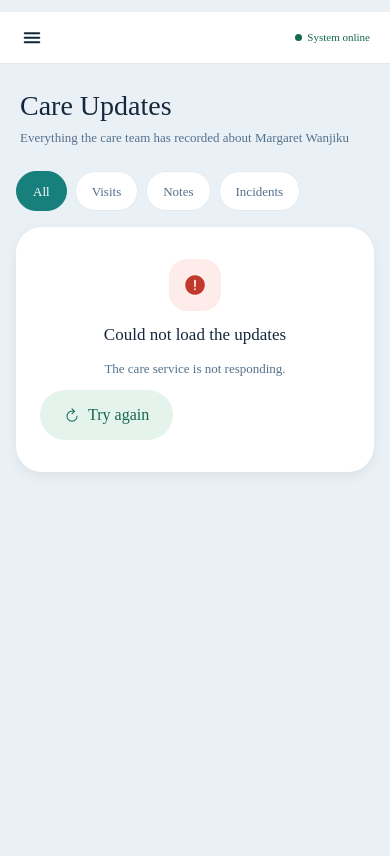
Scenario: the first load › takes the screen with an error only when nothing has loaded
Expected: the heading "Could not load the updates" is shown, [104, 323, 286, 347]
Click the button labelled "Try again": (107, 415) [40, 390, 173, 440]
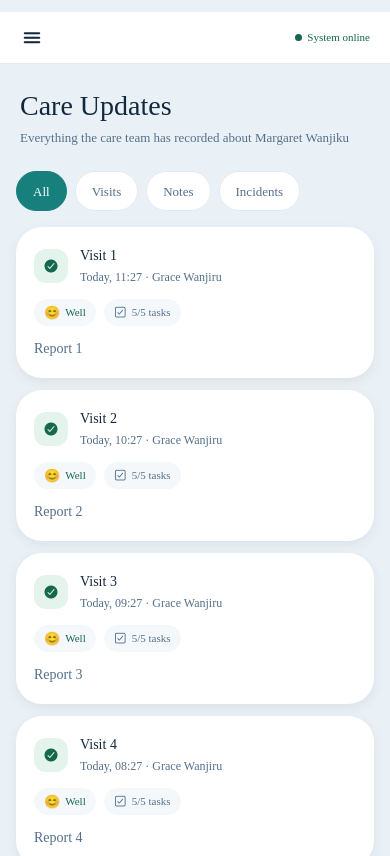
Result: the text "Visit 1" is shown at [80, 245, 117, 267]
